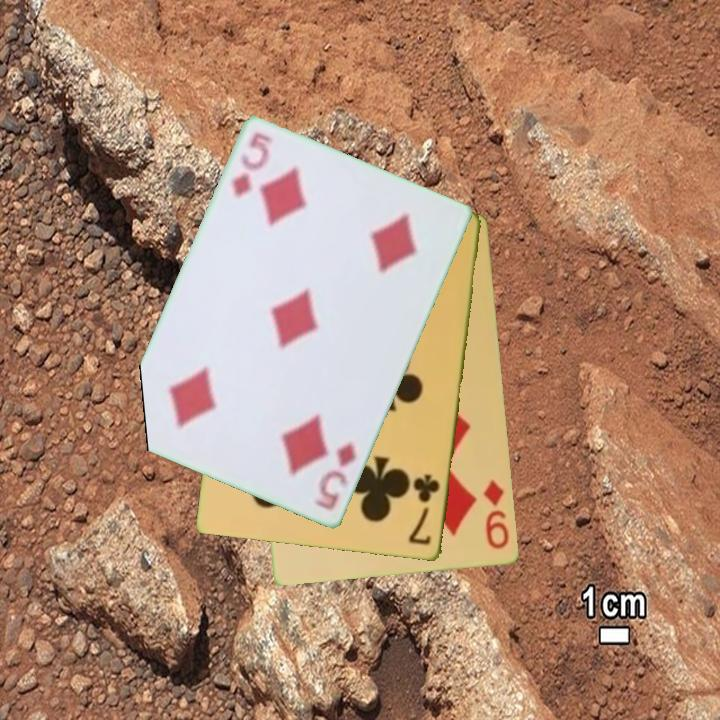5d: (311, 438, 360, 514), (227, 129, 276, 201)
7c: (406, 471, 443, 548)
9d: (480, 476, 512, 553)
